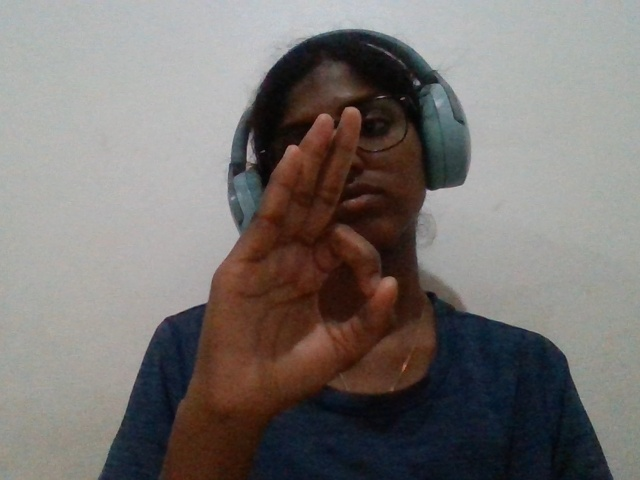F: (146, 96, 437, 480)
